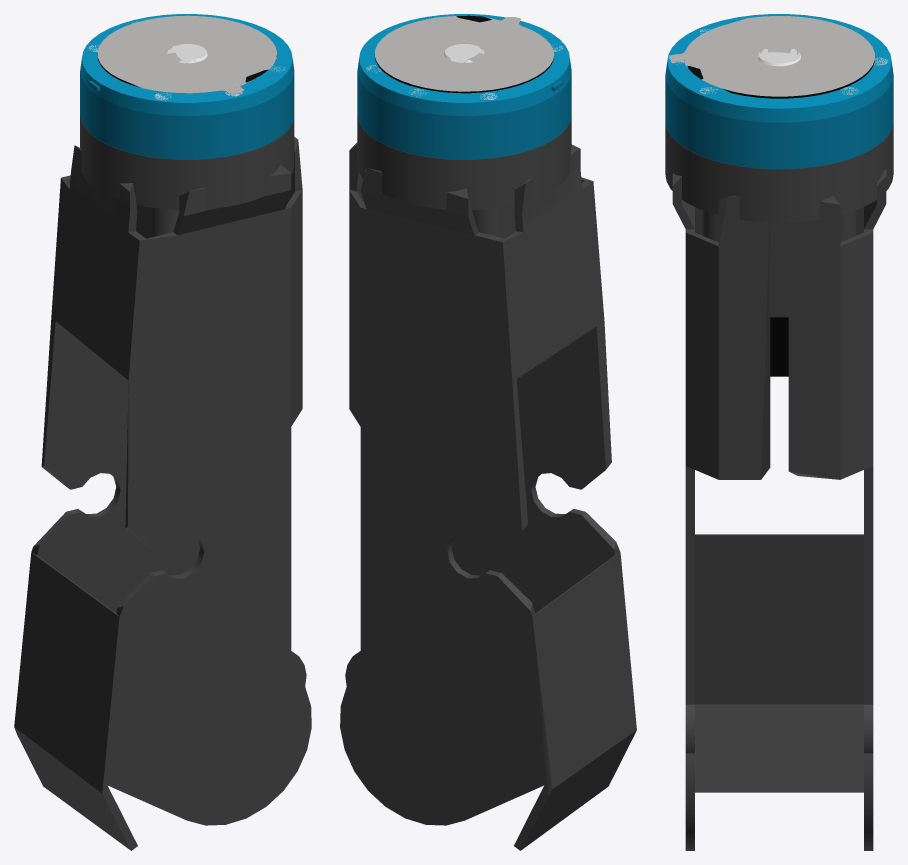
The model's file is upperarm_link.dae.
3 renders of one model, left to right at view 1: azimuth 30°, elevation 25°; view 2: azimuth 150°, elevation 25°; view 3: azimuth 270°, elevation 25°, orthographic. The views are drawn at different scales.
Visible parts, largest first — view 1: FBXASC227FBXASC130FBXASC189FBXASC227FBXASC131FBXASC170FBXASC (×7); view 2: FBXASC227FBXASC130FBXASC189FBXASC227FBXASC131FBXASC170FBXASC (×7); view 3: FBXASC227FBXASC130FBXASC189FBXASC227FBXASC131FBXASC170FBXASC (×7).
Boxes of the visible parts, <box> form: FBXASC227FBXASC130FBXASC189FBXASC227FBXASC131FBXASC170FBXASC (×7): <box>14,14,311,850</box>; FBXASC227FBXASC130FBXASC189FBXASC227FBXASC131FBXASC170FBXASC (×7): <box>340,14,636,850</box>; FBXASC227FBXASC130FBXASC189FBXASC227FBXASC131FBXASC170FBXASC (×7): <box>665,14,893,850</box>.
Bounding box in the file's own units: 0.0745 × 0.062 × 0.2369.
